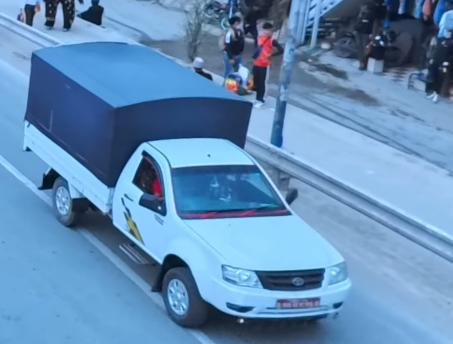transport_vehicle: (18, 37, 354, 325)
